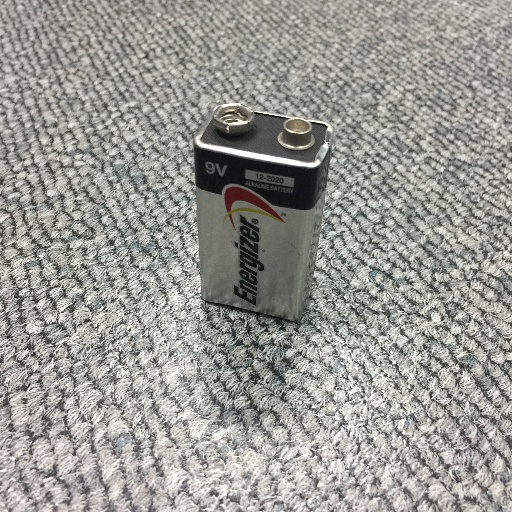Battery_3: (178, 84, 354, 348)
